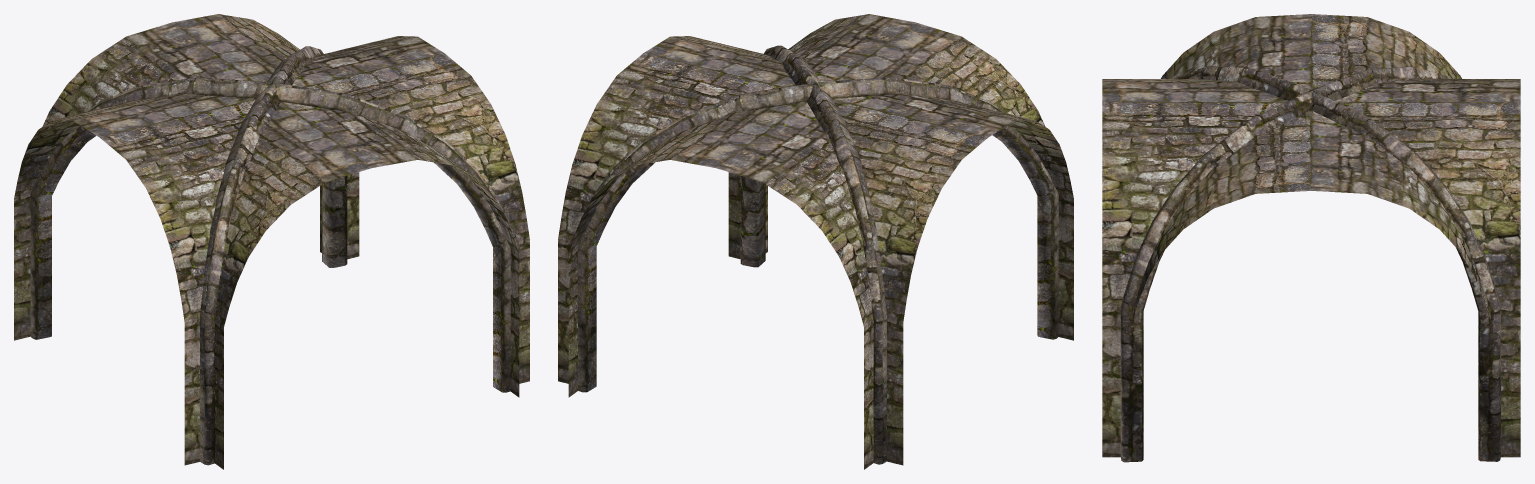
The model's file is Tunnel_Quad.FBX.
The picture shows the model from 3 angles, left to right: view 1: azimuth 30°, elevation 25°; view 2: azimuth 150°, elevation 25°; view 3: azimuth 270°, elevation 25°; orthographic projection. The views are drawn at different scales.
Parts seen in each view (by area): view 1: Tunnel_Quad; view 2: Tunnel_Quad; view 3: Tunnel_Quad.
Part boxes in pixels (<box>): Tunnel_Quad: <box>14,14,529,469</box>; Tunnel_Quad: <box>558,14,1073,469</box>; Tunnel_Quad: <box>1102,14,1520,462</box>.
Bounding box in the file's own units: 400 × 307 × 400.
